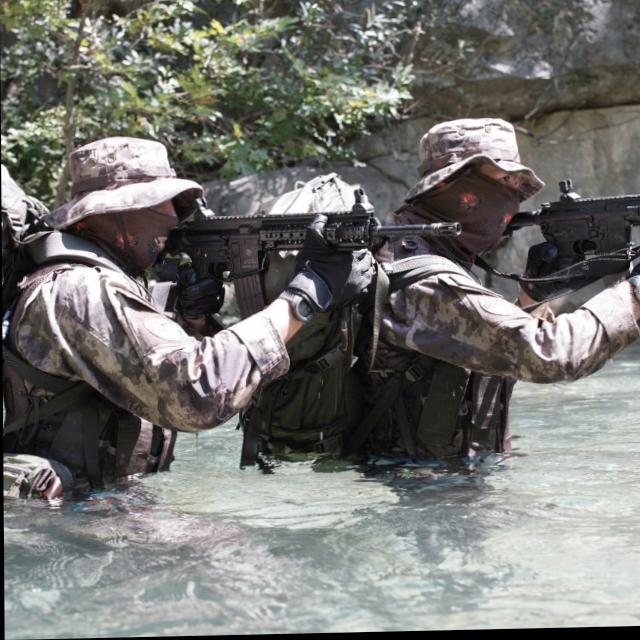poh_personel: (1, 131, 332, 500), (353, 115, 640, 467)
